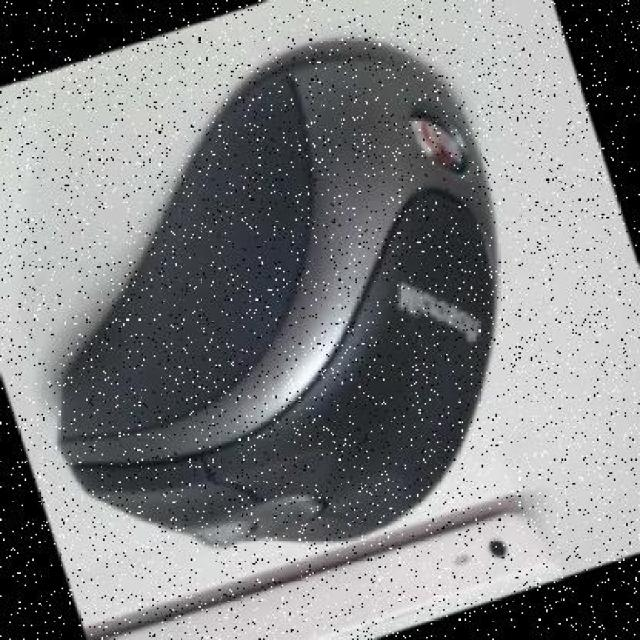mause: (0, 0, 611, 637)
